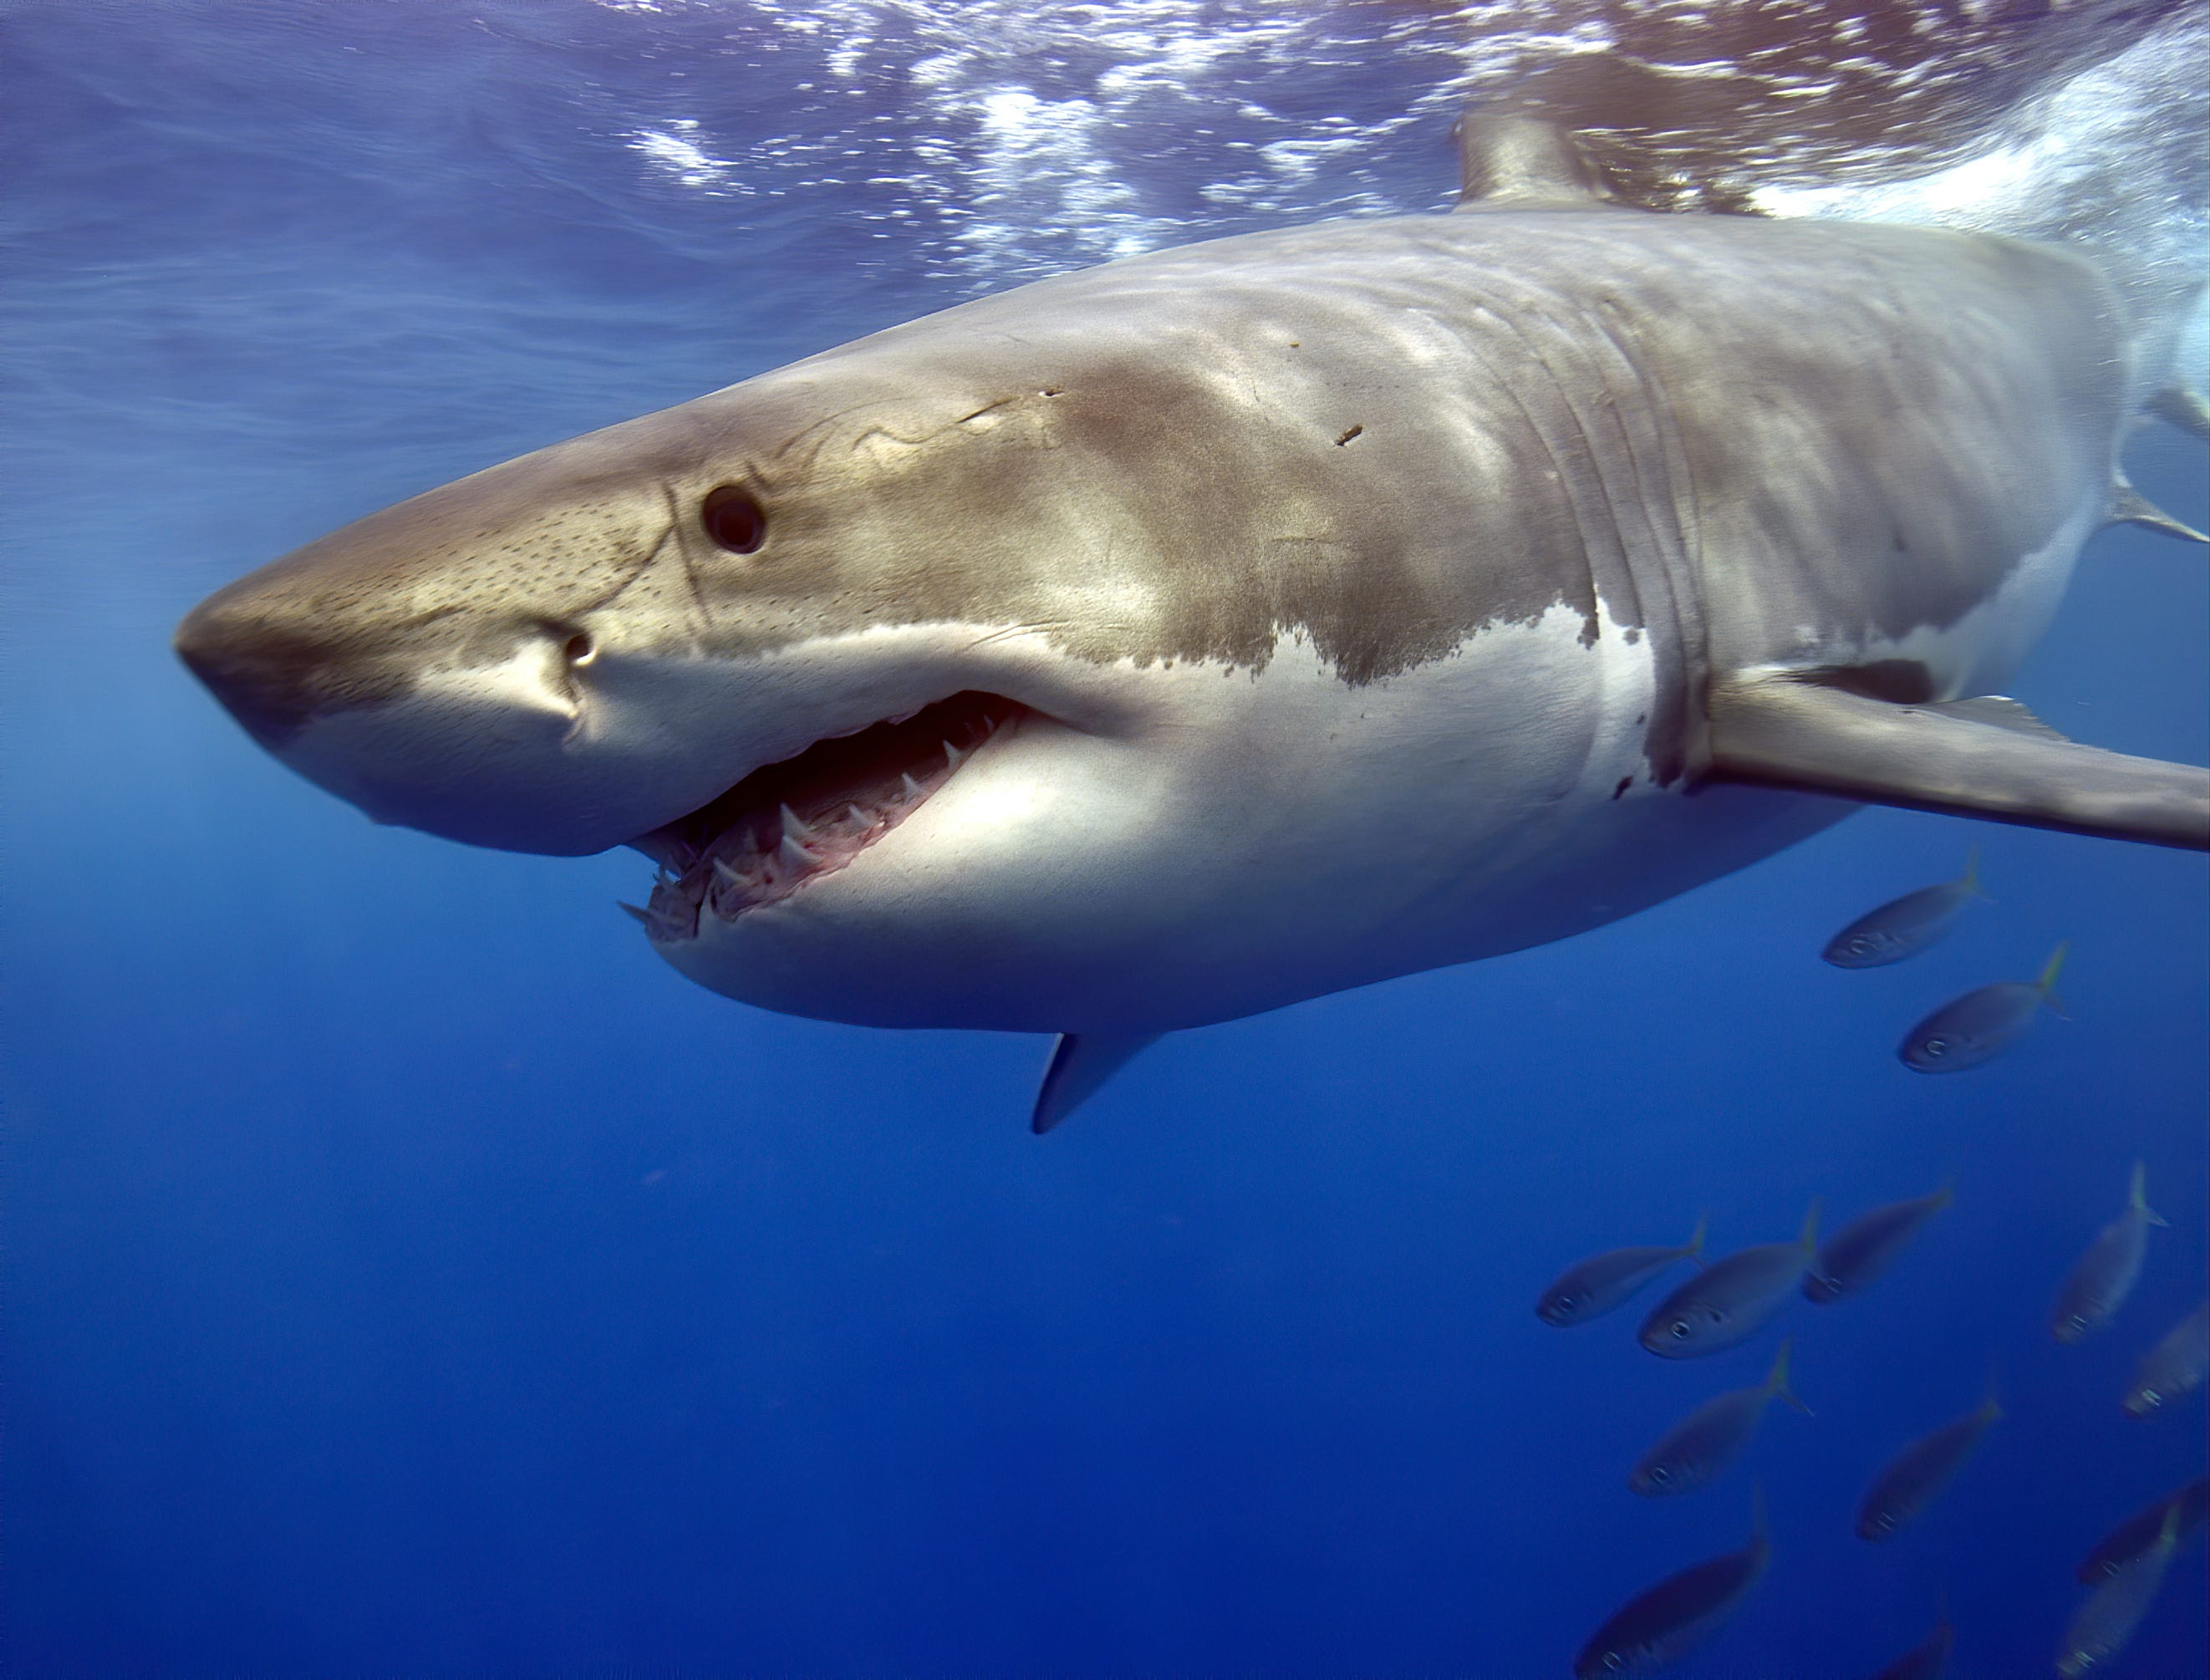Shark: (185, 104, 2210, 1138)
